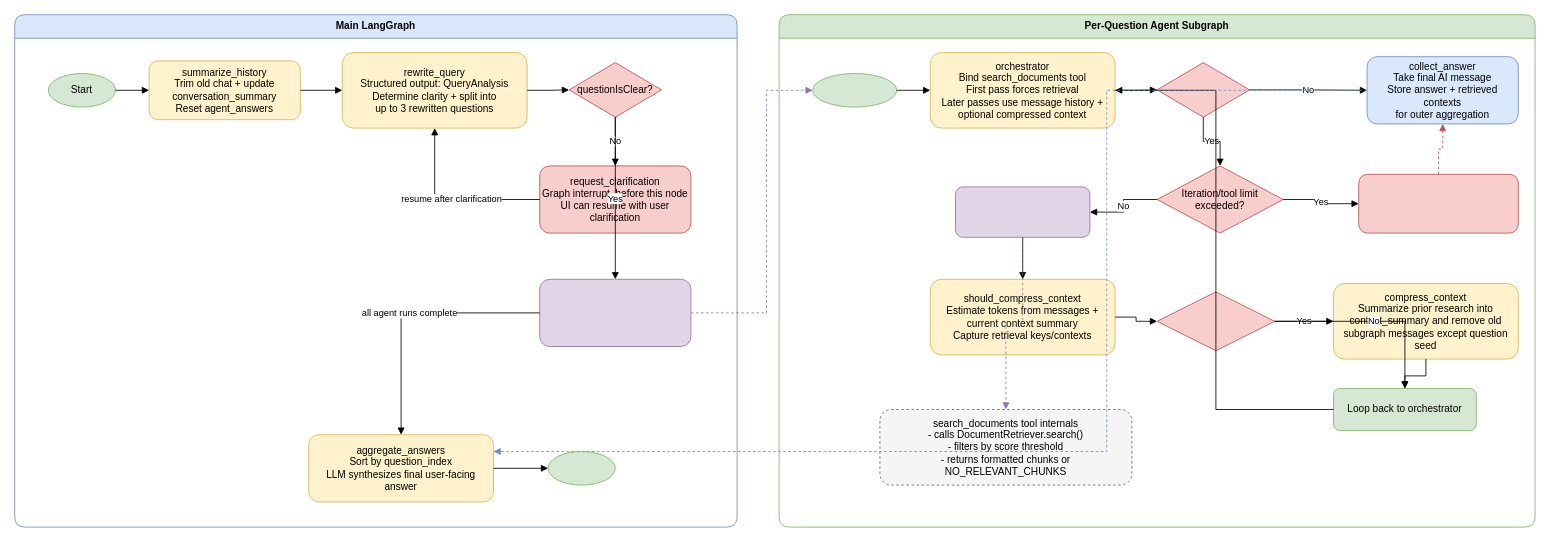
Some shapes in this 1550 by 542 pixel diagram are drawn without their labels. Each missing label, with the centre of its shape:
End: the point at 581,468
fallback_response Answer only from retrieved data when loop budget is exhausted: the point at 1438,203
Fan out with Send('agent', ... ) One subgraph run per rewritten question: the point at 615,312
Over token threshold?: the point at 1215,321
Subgraph Start: the point at 854,90
Tool calls present?: the point at 1203,89
tools ToolNode executes search_documents(query, limit): the point at 1022,211
